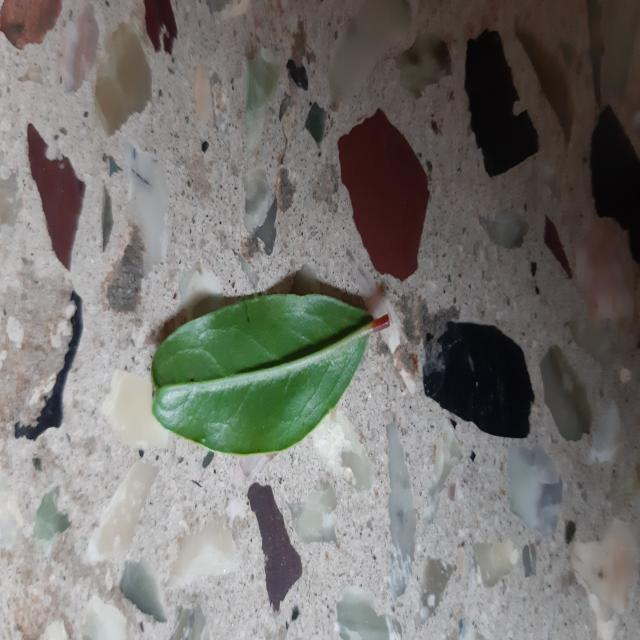leaf: (150, 291, 388, 455)
